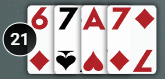6: (27, 5, 54, 30)
7: (55, 4, 80, 34), (107, 5, 132, 32)
a: (80, 5, 108, 35)
